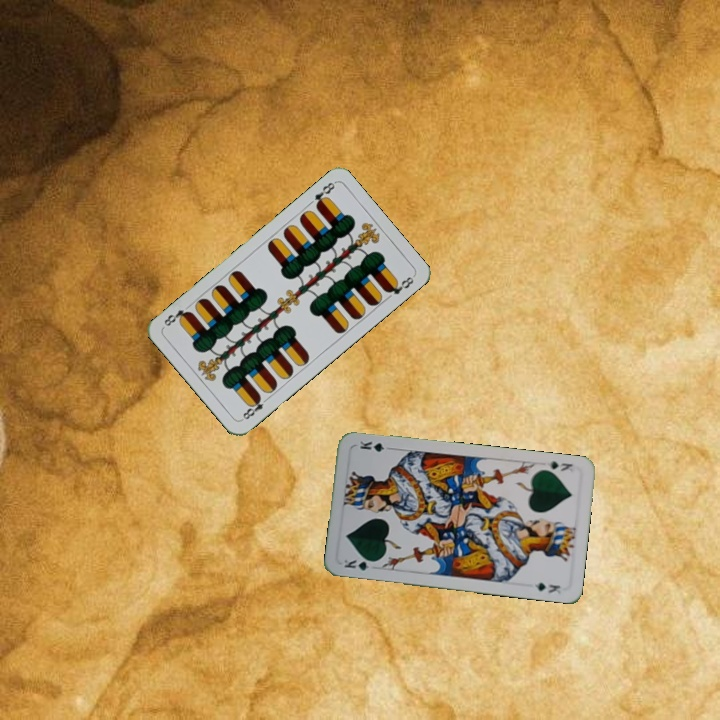E8: (238, 392, 272, 423), (310, 178, 337, 211)
GK: (340, 555, 379, 573), (543, 457, 575, 476)
